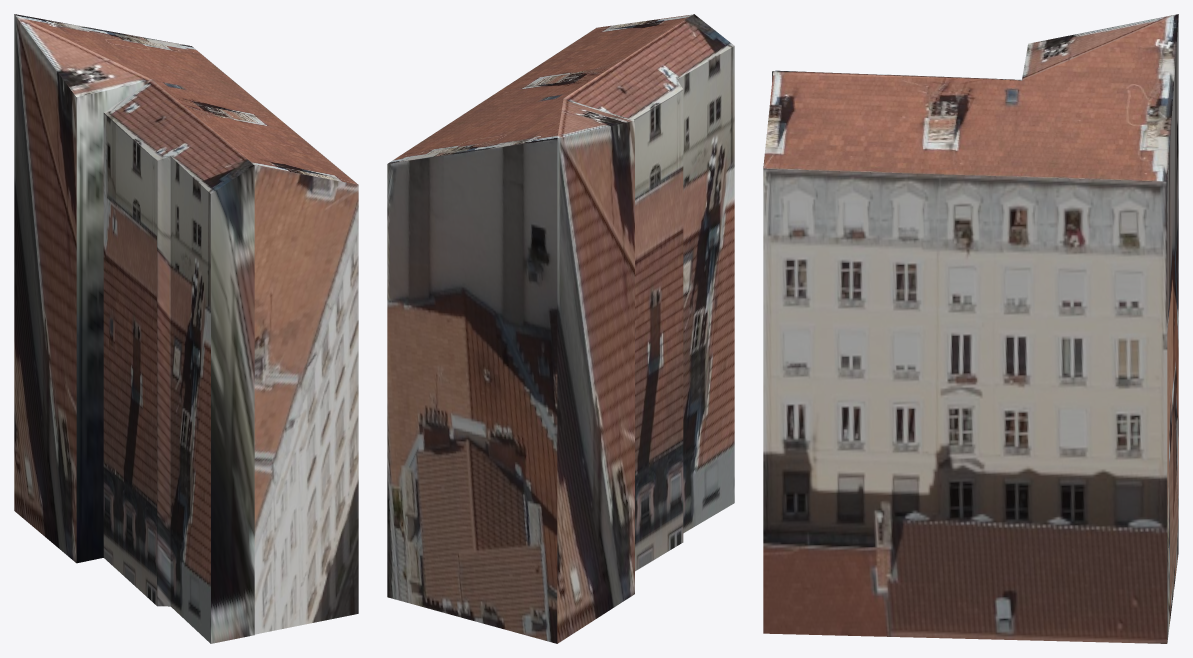
3 renders of one model, left to right at view 1: azimuth 30°, elevation 25°; view 2: azimuth 150°, elevation 25°; view 3: azimuth 270°, elevation 25°, orthographic. The views are drawn at different scales.
Parts seen in each view (by area): view 1: Z_UP; view 2: Z_UP; view 3: Z_UP.
Boxes of the visible parts, left/top/right/bottom form: Z_UP: left=14, top=14, right=358, bottom=643; Z_UP: left=387, top=14, right=734, bottom=643; Z_UP: left=763, top=14, right=1178, bottom=643.
Size of the model in its own units: 10.53 by 27.82 by 19.45.
2 materials, 1 textured.
